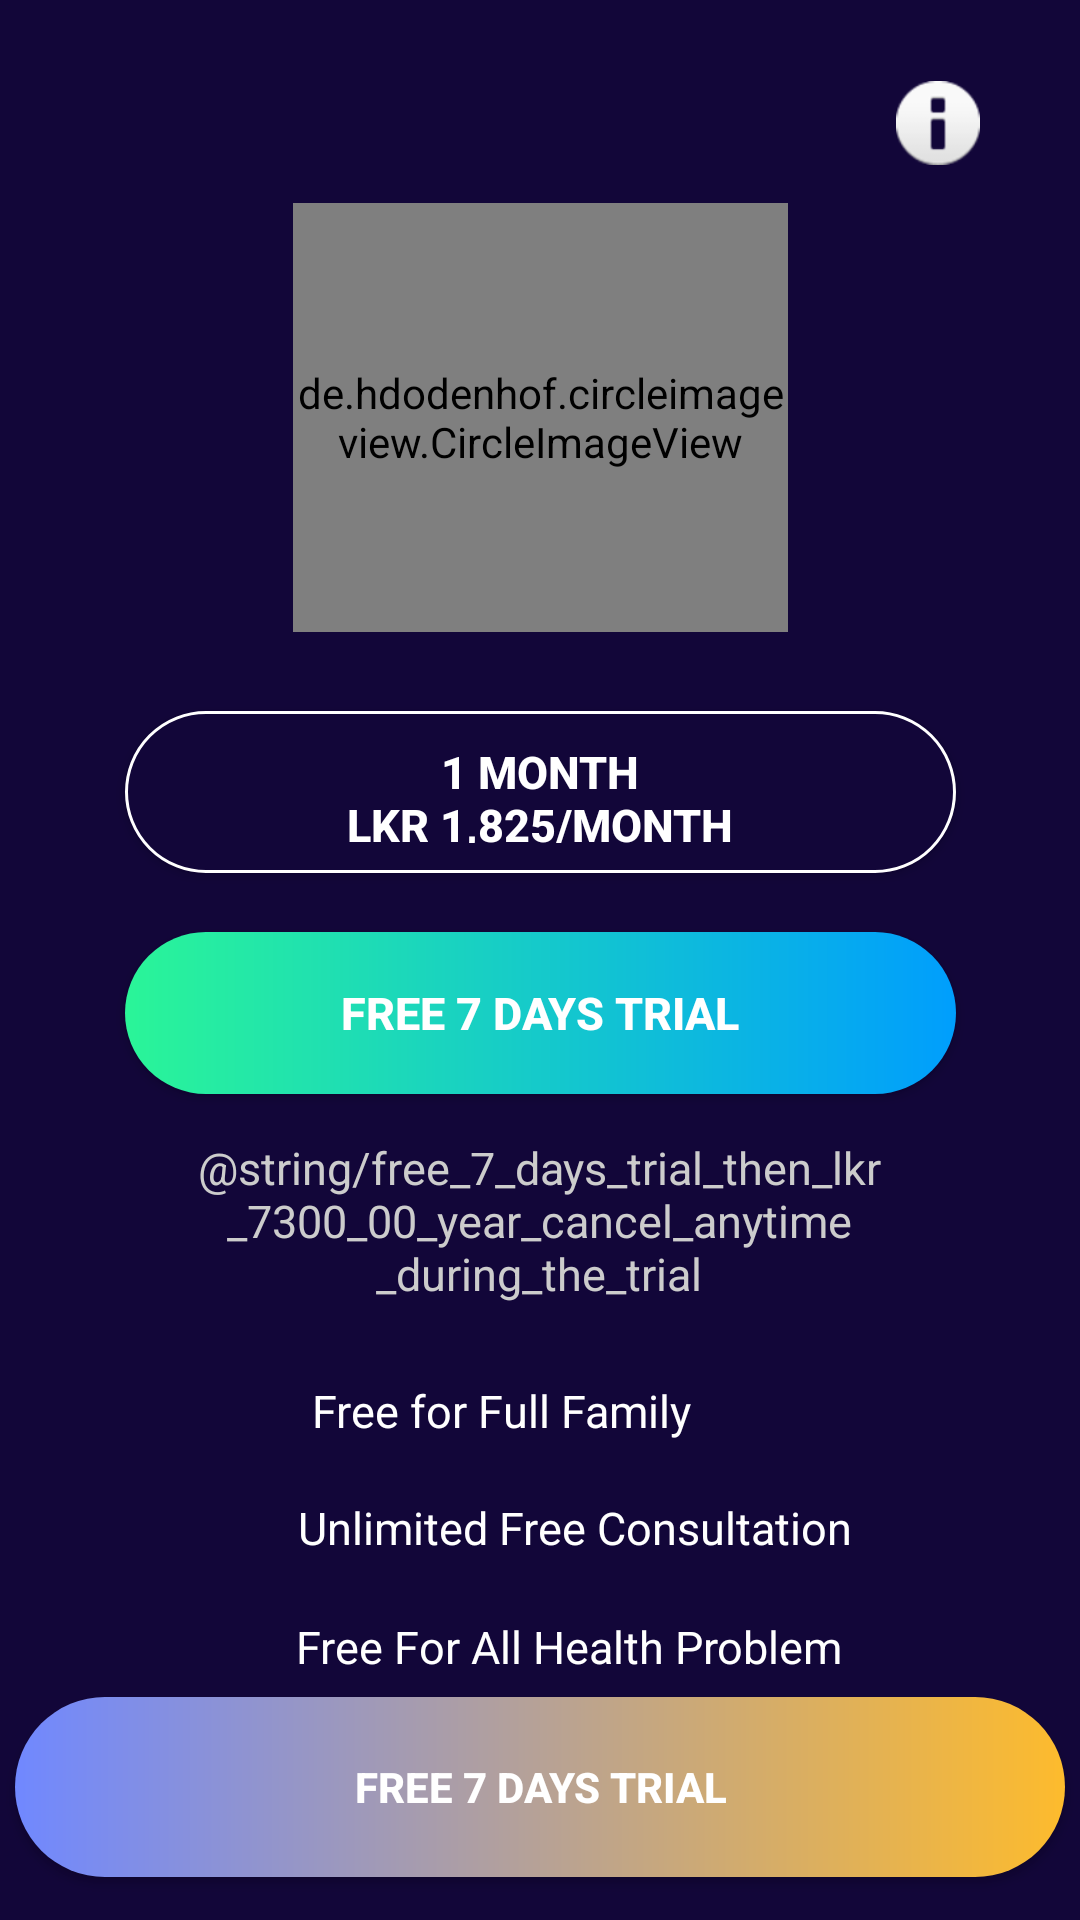

Named icons in this screenshot (1080×1920) and their centers, point (x, y):
info: point (938, 123)
